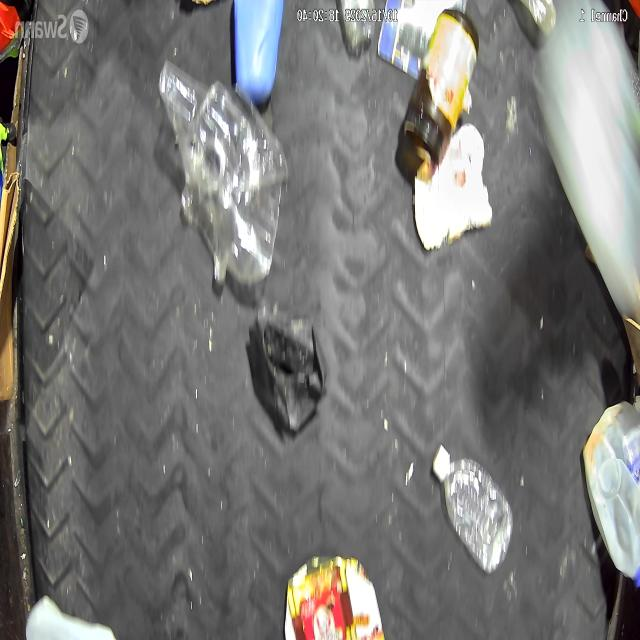milk_jug: (581, 398, 640, 591)
plastic_bottle: (158, 58, 288, 283), (432, 443, 514, 575)
